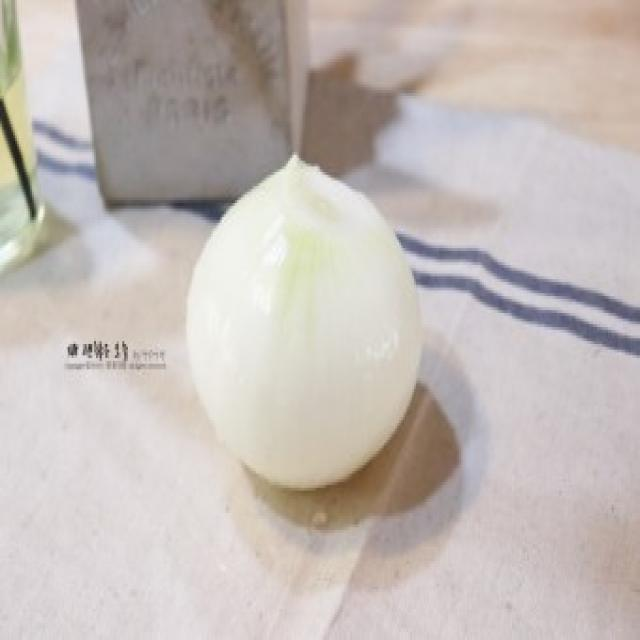Onion: (181, 152, 423, 491)
